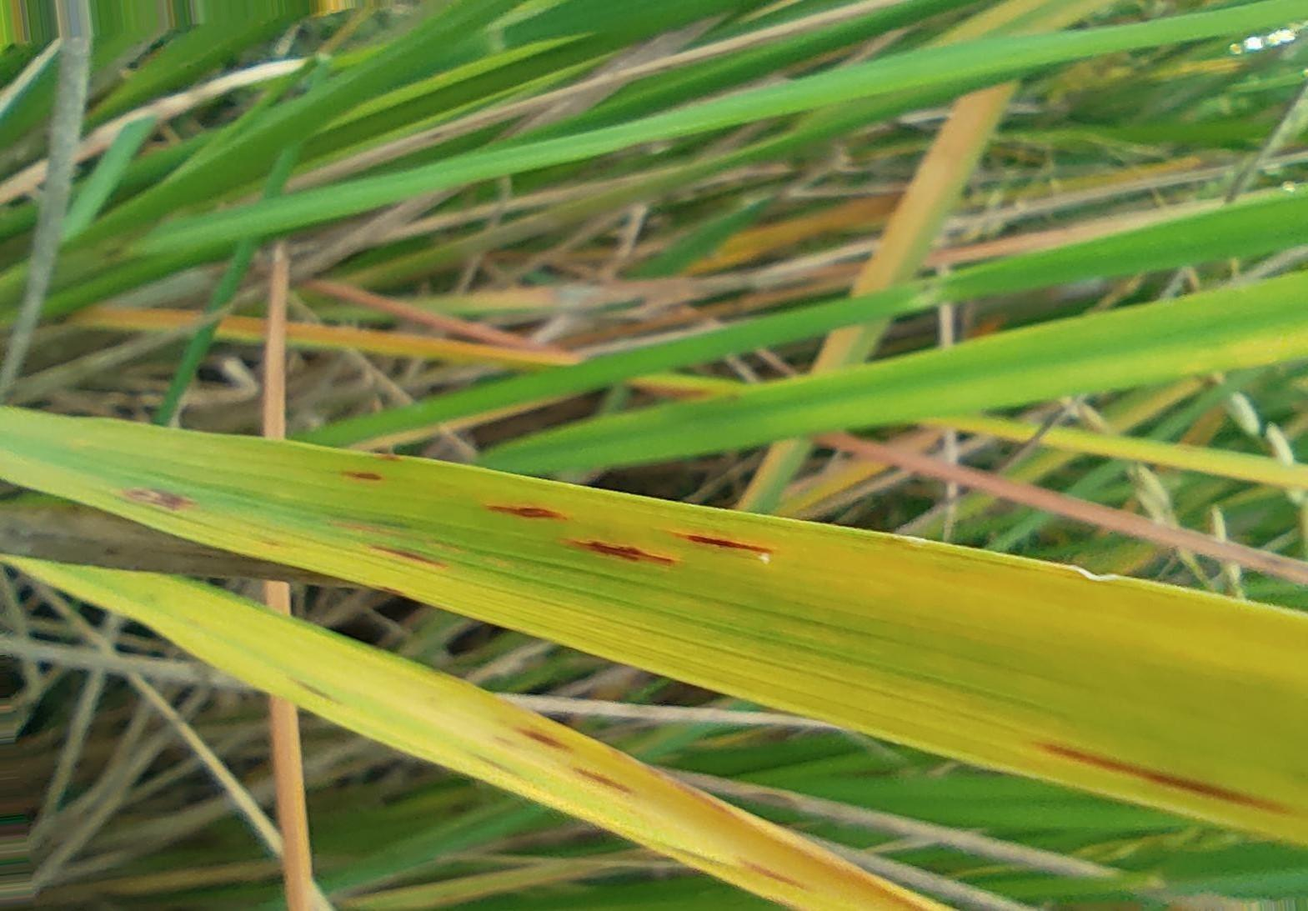LEAF: (0, 408, 1307, 845)
NBS: (1034, 743, 1290, 816), (562, 536, 681, 567), (674, 532, 772, 554), (372, 545, 448, 569), (481, 504, 572, 521), (124, 489, 197, 510), (343, 470, 385, 483), (377, 587, 407, 597), (375, 454, 400, 461)
